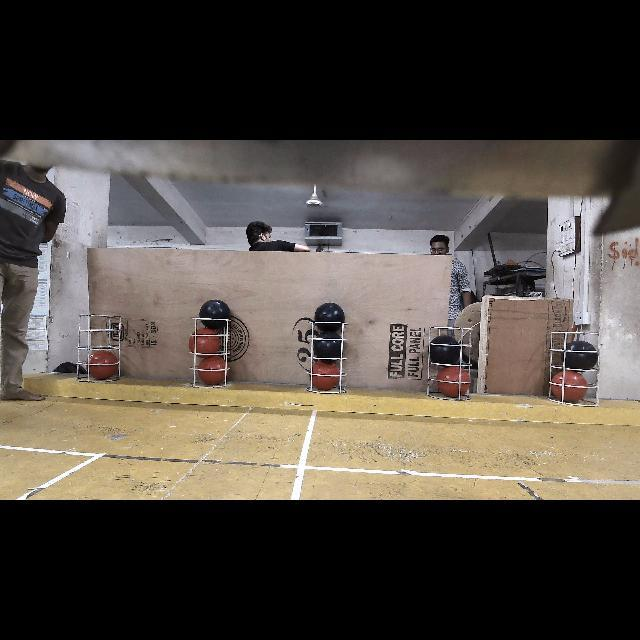P: (560, 342, 596, 371), (200, 301, 231, 331), (312, 331, 342, 361), (314, 302, 345, 331), (428, 338, 460, 364)
R: (553, 373, 589, 403), (196, 356, 228, 388), (86, 352, 118, 381), (437, 367, 469, 395), (310, 360, 340, 388), (190, 328, 220, 356)
S: (549, 331, 603, 407), (430, 326, 470, 402), (191, 317, 233, 388), (309, 322, 346, 394), (80, 316, 120, 379)
